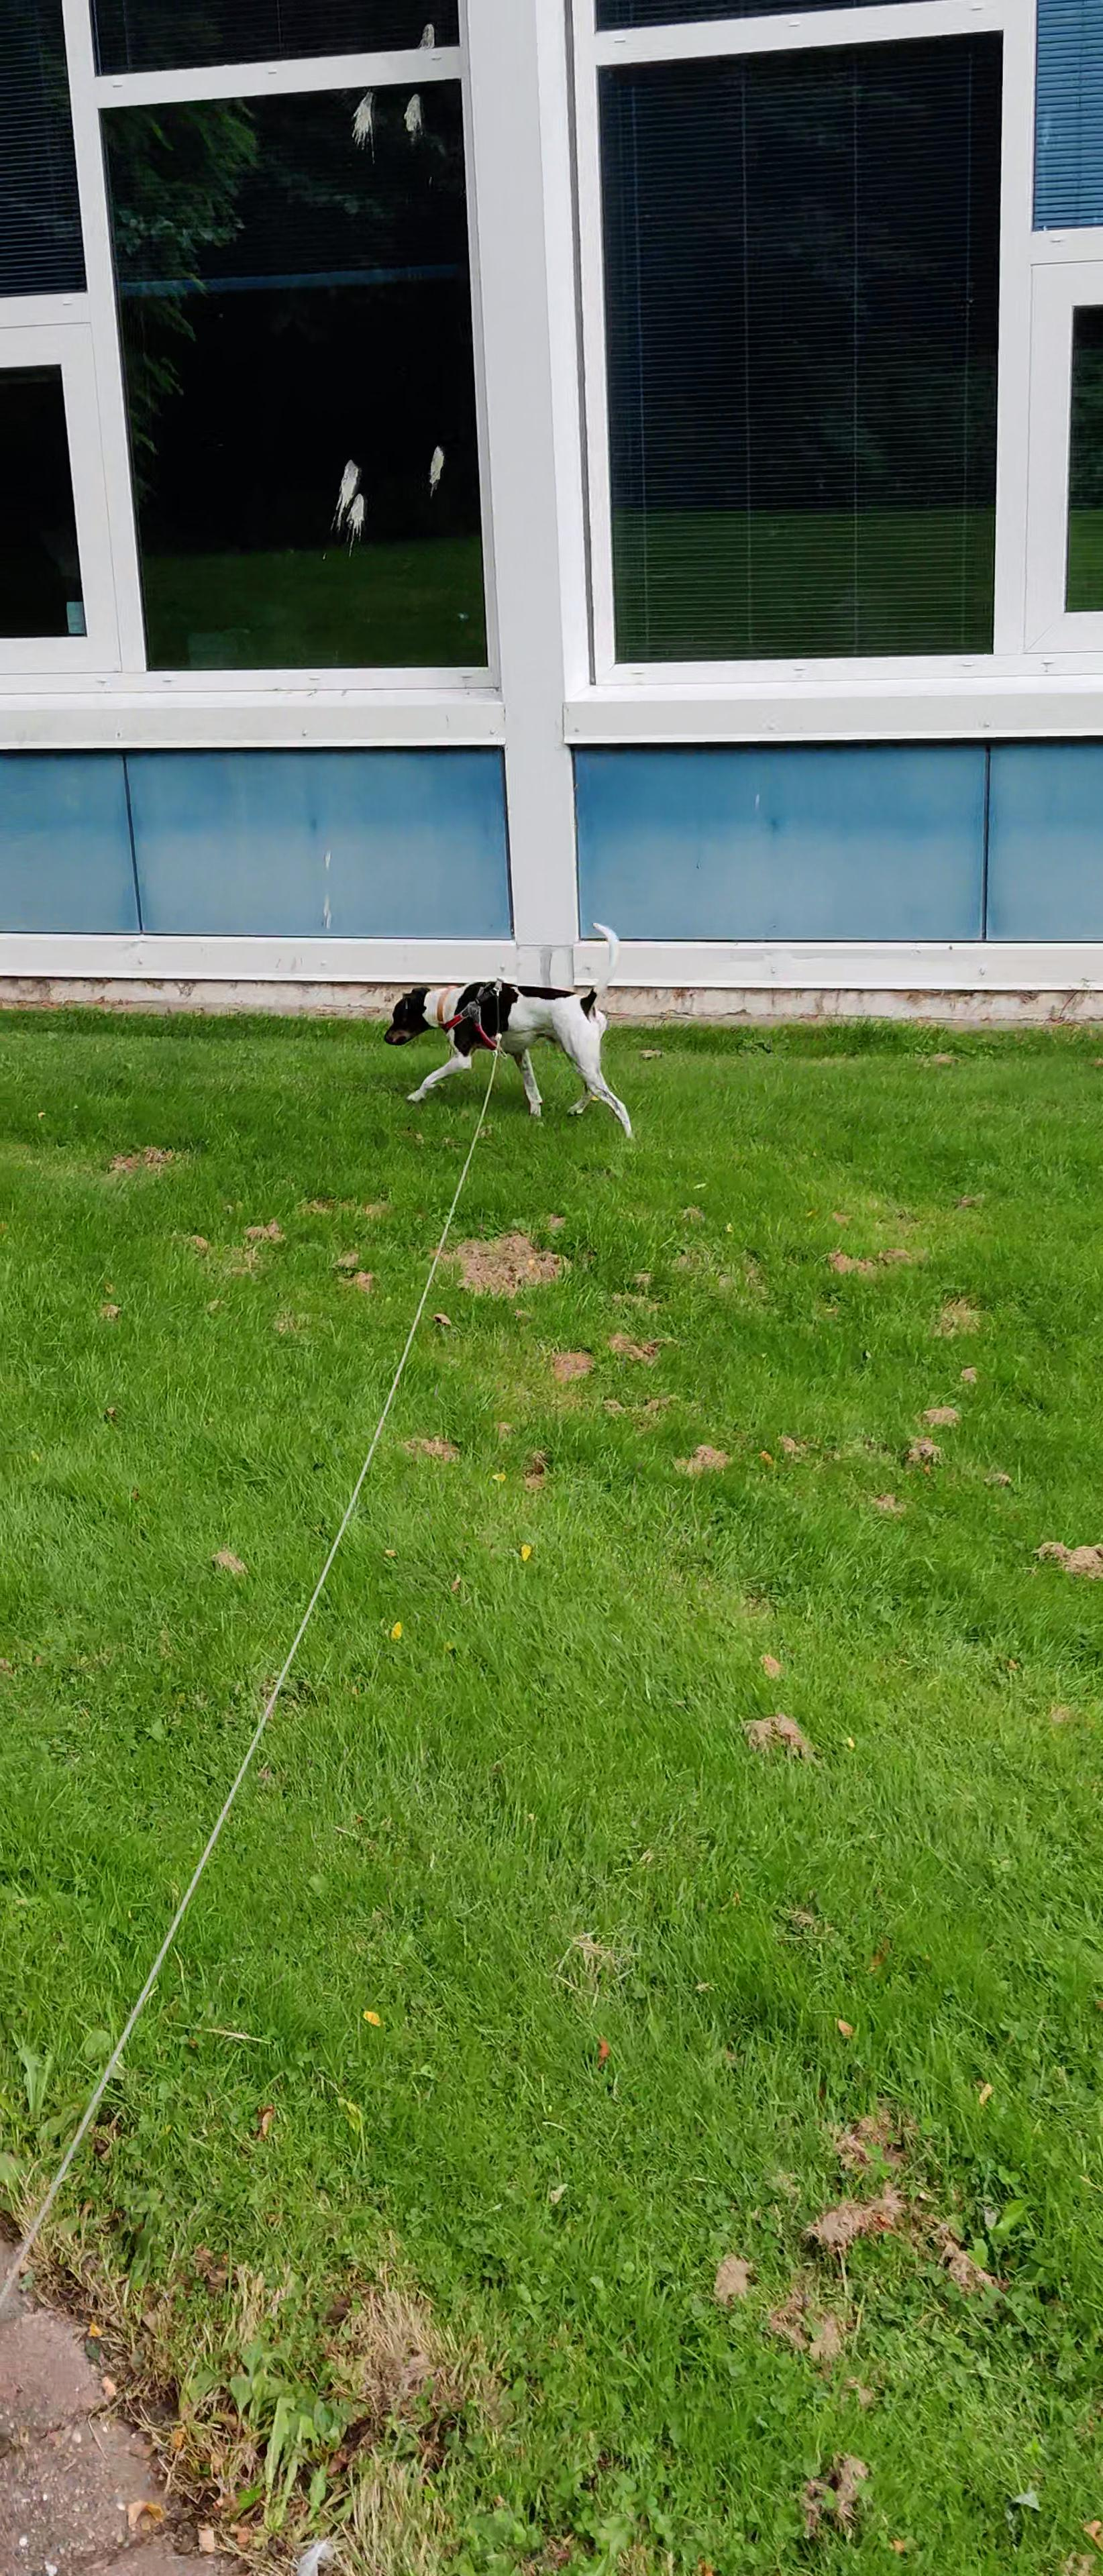Dog: (380, 920, 641, 1142)
